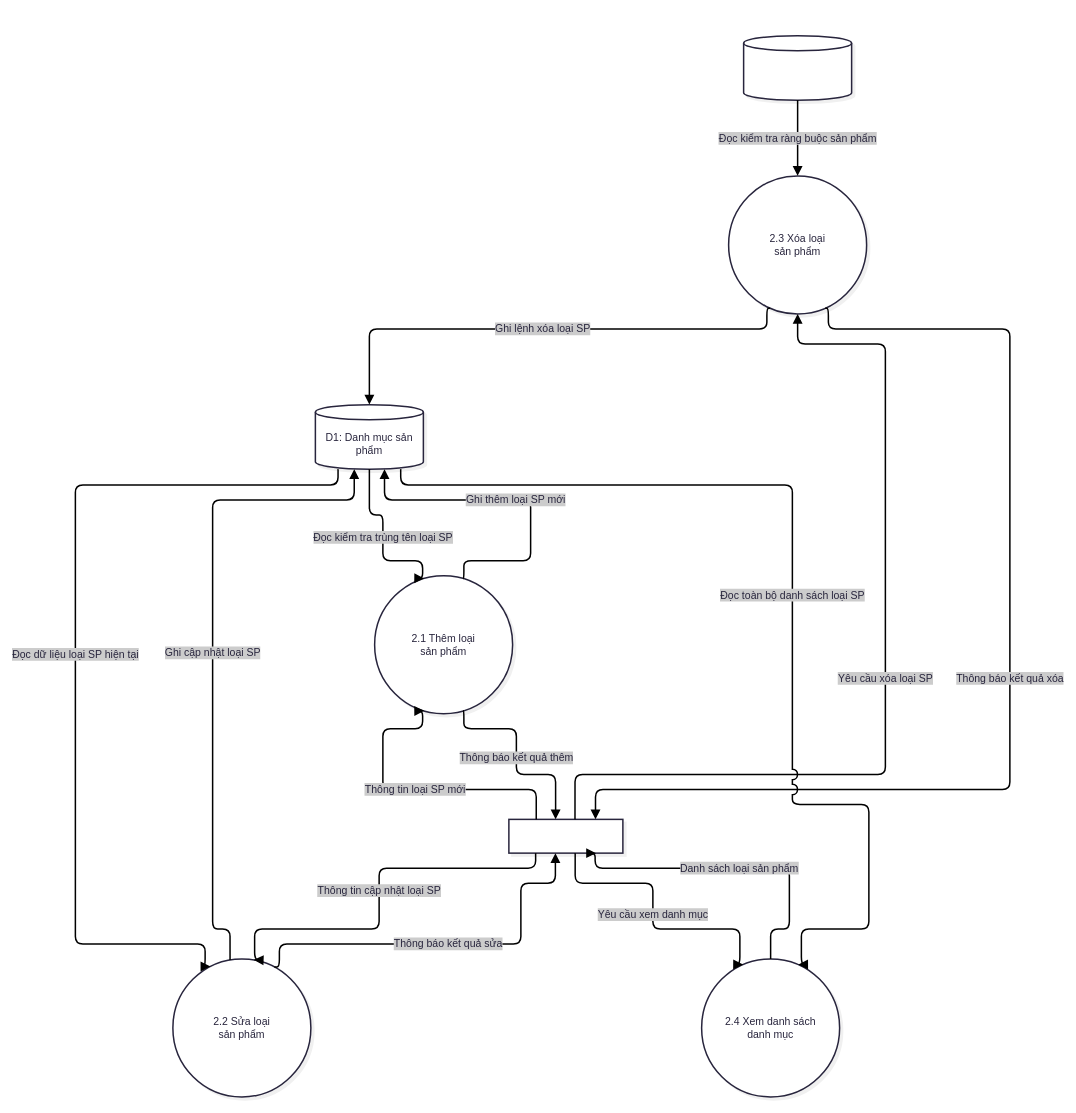
Some shapes in this 1076 by 1113 pixel diagram are drawn without their labels. The centre of each missing label's shape, as x and y in pixels:
D2: Sản phẩm: (798,69)
Quản lý kho: (567,837)
